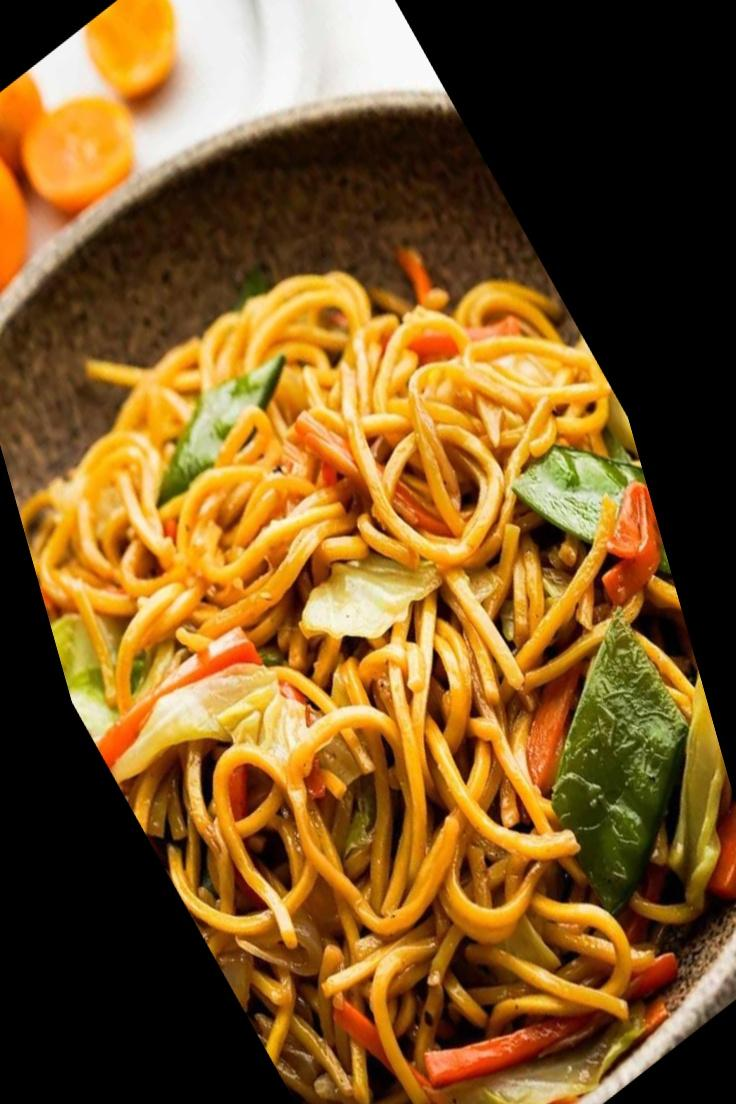pancit bihon: (12, 280, 735, 1099)
